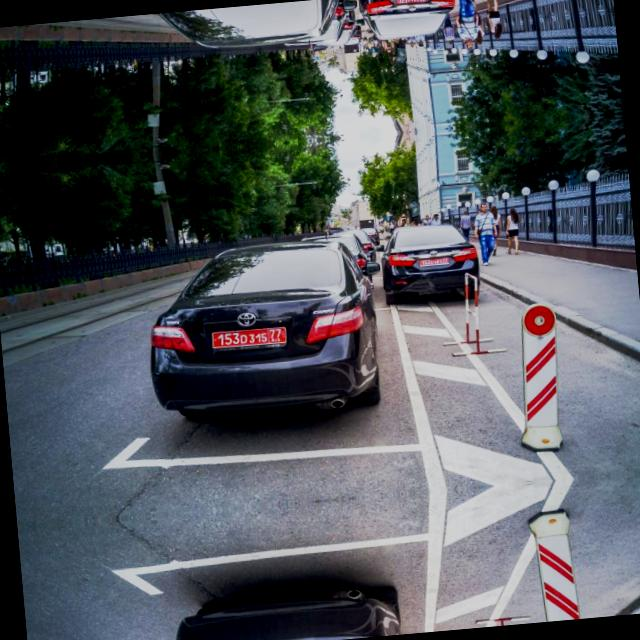diplomatic: (208, 318, 290, 356)
